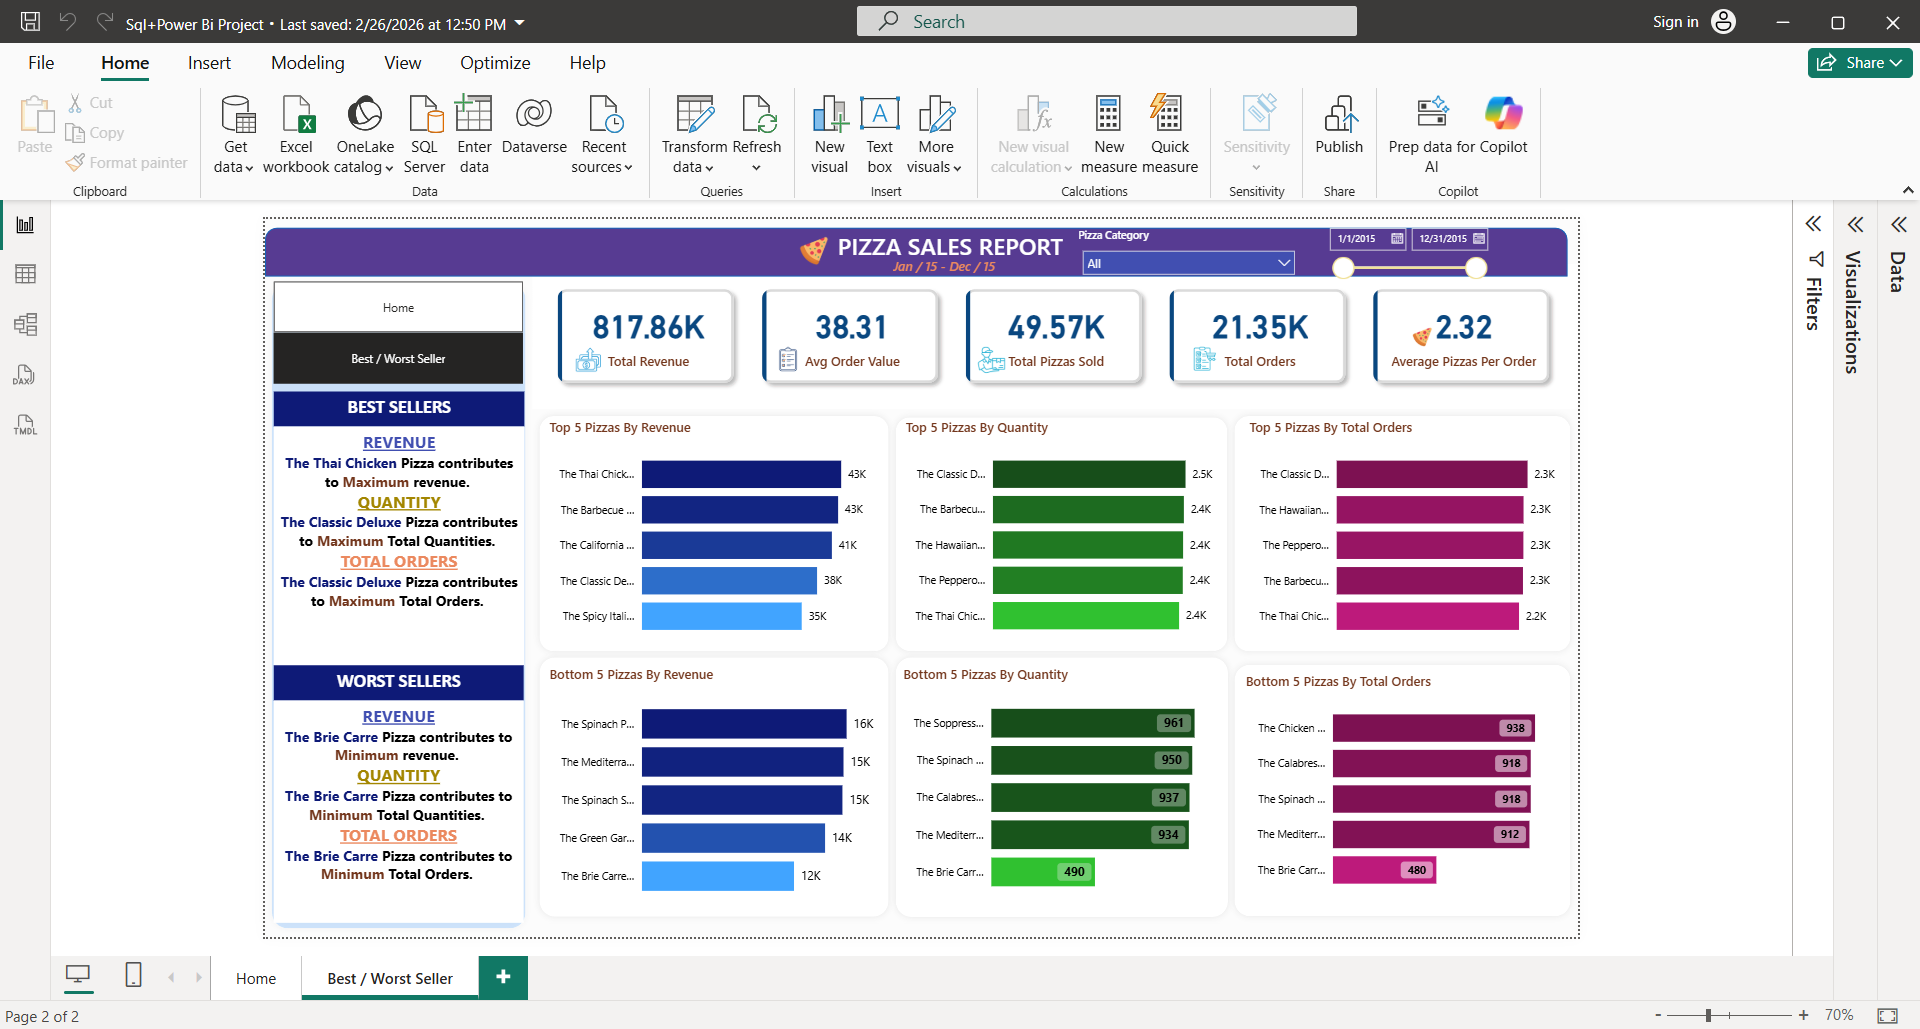

What the dashboard file says about the page in this screenshot:
{"tool":"powerbi","page":{"name":"Best / Worst Seller","canvas":[1500,820],"ordinal":1},"visuals":[{"type":"shape","box":[305,216.7,415,285],"z":0},{"type":"cardVisual","fields":{"Data":["pizza_sales.Total Revenue","pizza_sales.Avg Order Value","pizza_sales.Total Pizzas Sold","pizza_sales.Total Orders","pizza_sales.Average Pizzas Per Order"]},"box":[305.7,51.4,1194.3,165.7],"z":1000},{"type":"image","box":[351.4,144.3,35.7,32.9],"z":2000},{"type":"image","box":[579.1,146.4,38.2,29.1],"z":3000},{"type":"image","box":[813.6,143.6,31.8,33.6],"z":4000},{"type":"image","box":[1058.2,146.4,31.8,28.2],"z":5000},{"type":"image","box":[598.6,20,37.1,32.9],"z":6000},{"type":"shape","box":[0,10,1488.6,55.7],"z":7000},{"type":"textbox","box":[635.7,7.1,295.7,58.6],"z":8000},{"type":"textbox","box":[713,38,143,34],"z":9000},{"type":"image","box":[609.1,20,37.3,32.7],"z":10000},{"type":"image","box":[1311.1,122.2,22.2,24.4],"z":11000},{"type":"shape","box":[0,65.7,305.7,752.9],"z":12000},{"type":"textbox","box":[10,196.7,286.7,40],"z":13000},{"type":"textbox","box":[10,236.7,286.7,273.3],"z":14000},{"type":"textbox","box":[10,550,285.6,254.4],"z":15000},{"type":"textbox","box":[10,510,285.6,40],"z":16000},{"type":"slicer","title":"Pizza Category","fields":{"Values":["pizza_sales.pizza_category"]},"box":[923.6,10,262.7,55.5],"z":17000},{"type":"slicer","title":"Pizza Category","fields":{"Values":["pizza_sales.order_date"]},"box":[1203.8,0,201.2,71.2],"z":18000},{"type":"shape","box":[713.3,218.3,395,283.3],"z":19000},{"type":"shape","box":[1100,216.7,400,285],"z":20000},{"type":"shape","box":[305,492.5,415,312.5],"z":21000},{"type":"shape","box":[712.9,492.9,395.7,312.9],"z":22000},{"type":"shape","box":[1100,501.7,400,303.3],"z":23000},{"type":"barChart","title":"Top 5 Pizzas By Revenue","fields":{"Category":["pizza_sales.pizza_name"],"Y":["pizza_sales.Total Revenue"]},"box":[320,227,393,265],"z":24000},{"type":"barChart","title":"Bottom 5 Pizzas By Revenue","fields":{"Category":["pizza_sales.pizza_name"],"Y":["pizza_sales.Total Revenue"]},"box":[320,510,393.3,281.7],"z":25000},{"type":"barChart","title":"Top 5 Pizzas By Quantity","fields":{"Category":["pizza_sales.pizza_name"],"Y":["pizza_sales.Total Pizzas Sold"]},"box":[727.1,227.1,368.6,264.3],"z":25001},{"type":"barChart","title":"Bottom 5 Pizzas By Quantity","fields":{"Category":["pizza_sales.pizza_name"],"Y":["pizza_sales.Total Pizzas Sold"]},"box":[724,510,372,276],"z":25002},{"type":"barChart","title":"Top 5 Pizzas By Total Orders","fields":{"Category":["pizza_sales.pizza_name"],"Y":["pizza_sales.Total Orders"]},"box":[1120,226.7,368.3,265],"z":25003},{"type":"barChart","title":"Bottom 5 Pizzas By Total Orders","fields":{"Category":["pizza_sales.pizza_name"],"Y":["pizza_sales.Total Orders"]},"box":[1115,516.7,368.3,265],"z":25004},{"type":"pageNavigator","box":[10,130,285,58.3],"z":25006},{"type":"pageNavigator","box":[10,71.7,285,58.3],"z":25007}]}

Visuals, with their boxes on the page's 1500x820 design canvas (x1, y1, x2, y2). These are canvas units, not pixel positions in the 1920x1029 screenshot, which may show the page scaled, cropped or inside an application window:
shape: (305, 217, 720, 502)
cardVisual - pizza_sales.Total Revenue x pizza_sales.Avg Order Value: (306, 51, 1500, 217)
image: (351, 144, 387, 177)
image: (579, 146, 617, 176)
image: (814, 144, 845, 177)
image: (1058, 146, 1090, 175)
image: (599, 20, 636, 53)
shape: (0, 10, 1489, 66)
textbox: (636, 7, 931, 66)
textbox: (713, 38, 856, 72)
image: (609, 20, 646, 53)
image: (1311, 122, 1333, 147)
shape: (0, 66, 306, 819)
textbox: (10, 197, 297, 237)
textbox: (10, 237, 297, 510)
textbox: (10, 550, 296, 804)
textbox: (10, 510, 296, 550)
"Pizza Category" slicer: (924, 10, 1186, 66)
"Pizza Category" slicer: (1204, 0, 1405, 71)
shape: (713, 218, 1108, 502)
shape: (1100, 217, 1500, 502)
shape: (305, 492, 720, 805)
shape: (713, 493, 1109, 806)
shape: (1100, 502, 1500, 805)
"Top 5 Pizzas By Revenue" barChart: (320, 227, 713, 492)
"Bottom 5 Pizzas By Revenue" barChart: (320, 510, 713, 792)
"Top 5 Pizzas By Quantity" barChart: (727, 227, 1096, 491)
"Bottom 5 Pizzas By Quantity" barChart: (724, 510, 1096, 786)
"Top 5 Pizzas By Total Orders" barChart: (1120, 227, 1488, 492)
"Bottom 5 Pizzas By Total Orders" barChart: (1115, 517, 1483, 782)
pageNavigator: (10, 130, 295, 188)
pageNavigator: (10, 72, 295, 130)
